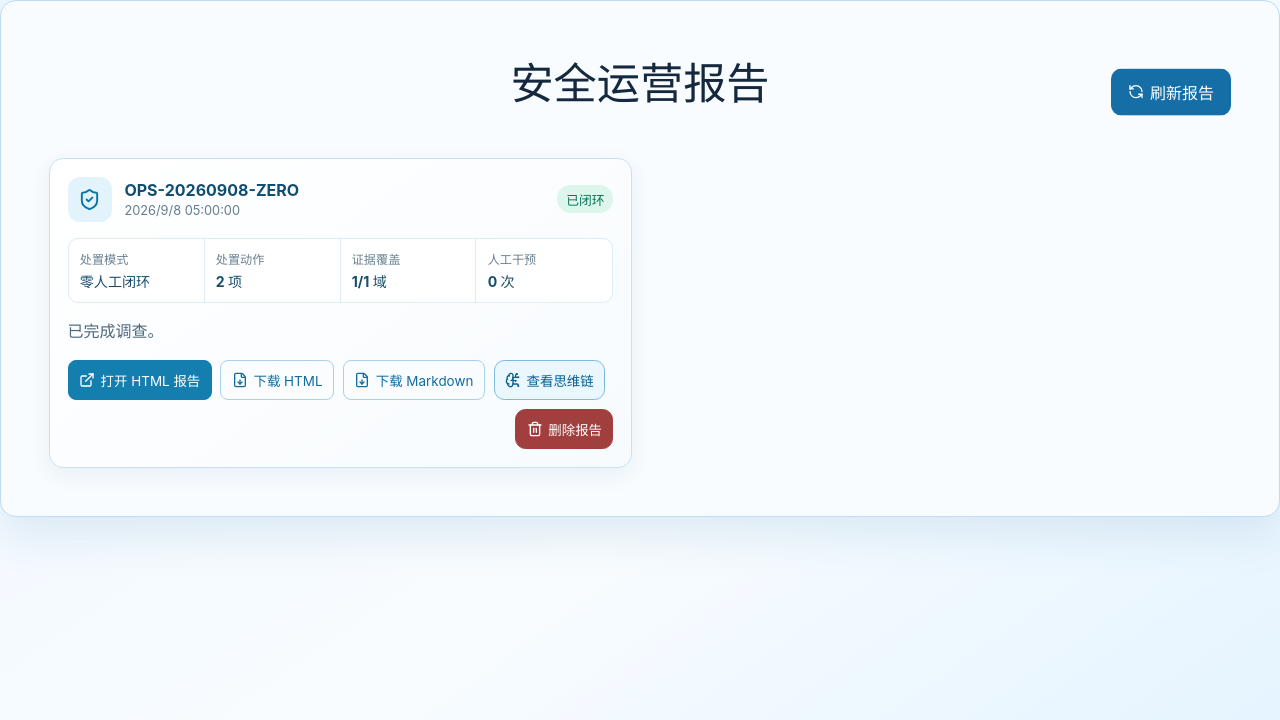
Test: OperationsReportPage › adds only observed domains, audited actions, replanning and verification to the dynamic chain
The width and height of the screenshot is (1280, 720).
Click the button "查看思维链".
click(549, 380)  # box left=494, top=360, right=605, bottom=400
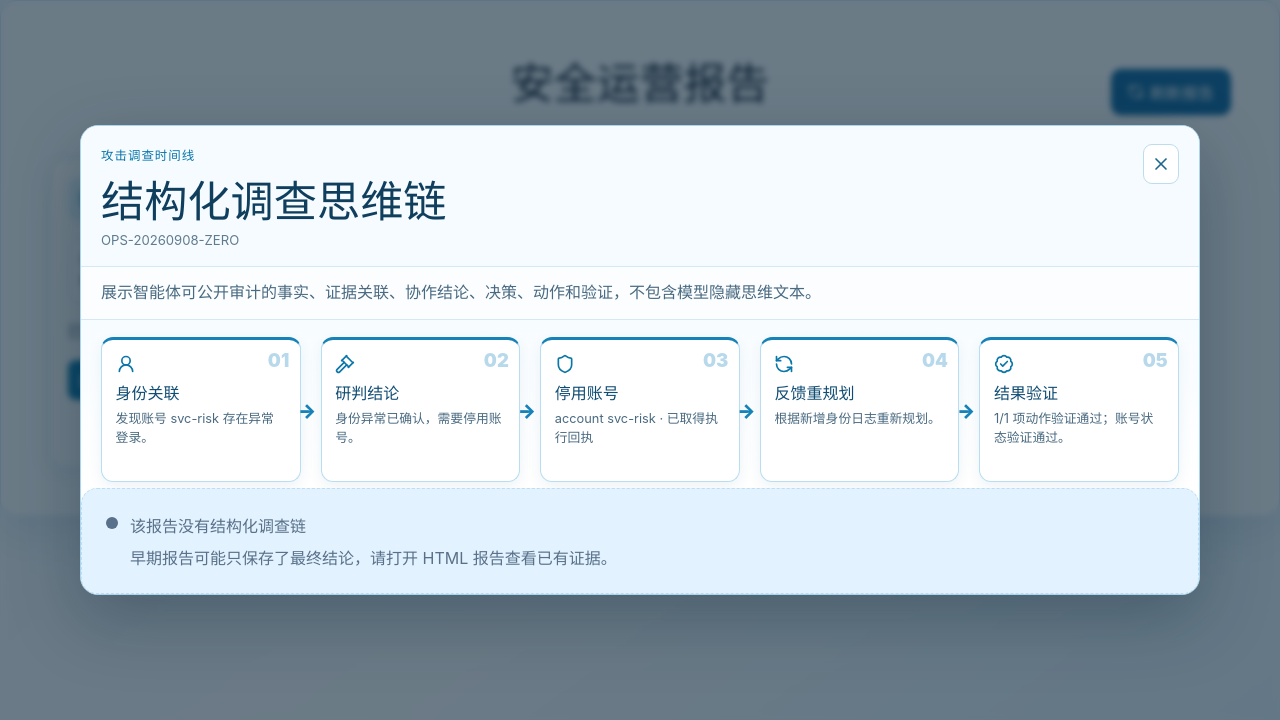
Result: the text "身份关联" is shown at left=116, top=383, right=180, bottom=403
Result: the text "停用账号" is shown at left=555, top=383, right=619, bottom=403
Result: the text "反馈重规划" is shown at left=774, top=383, right=854, bottom=403
